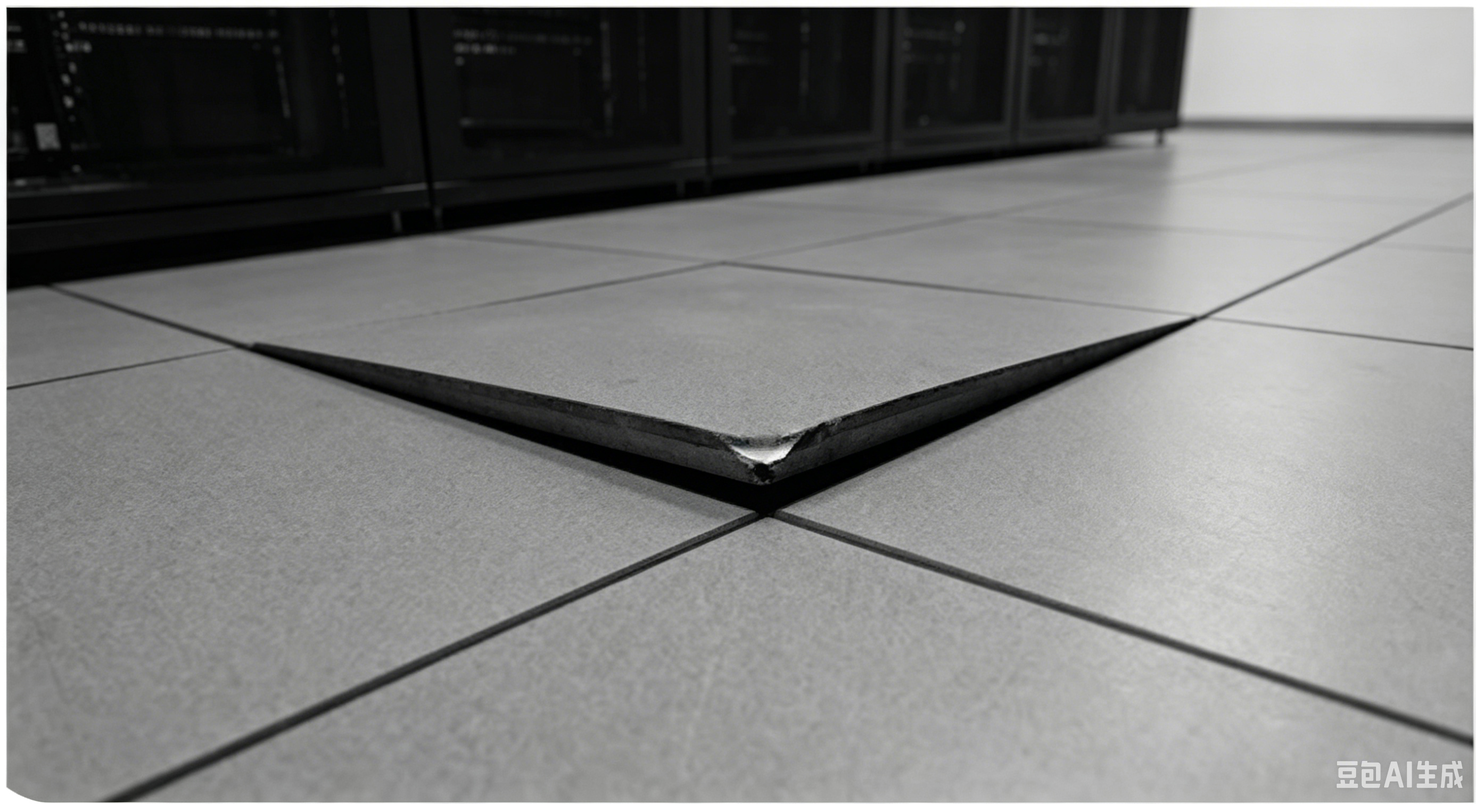floor_defect: (220, 318, 1197, 510)
